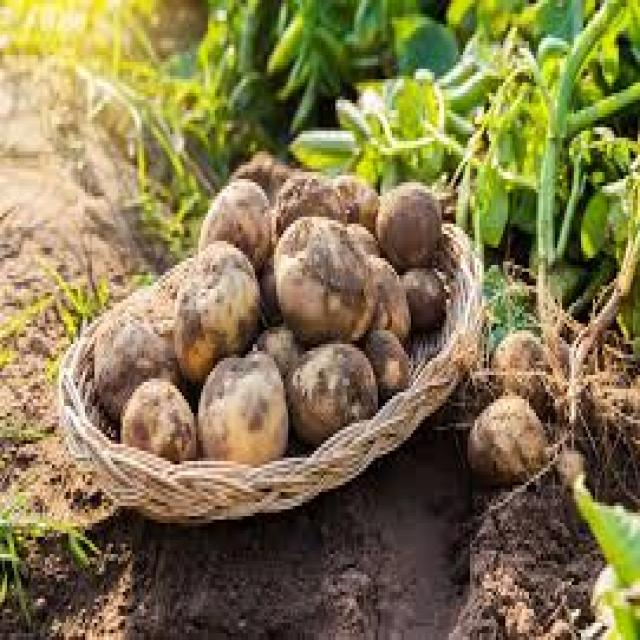organic waste: (170, 234, 257, 396), (272, 210, 371, 344), (88, 282, 177, 420), (191, 337, 288, 461), (283, 341, 378, 437), (460, 392, 541, 482), (118, 372, 194, 461), (196, 176, 269, 262), (371, 176, 442, 262), (489, 327, 545, 416), (269, 168, 340, 238), (362, 317, 408, 399), (366, 255, 406, 330), (399, 265, 442, 323), (232, 145, 288, 189), (331, 176, 380, 223), (257, 248, 279, 330), (342, 217, 385, 258)
